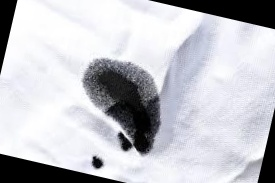ink: (71, 52, 172, 156), (89, 154, 106, 171)
